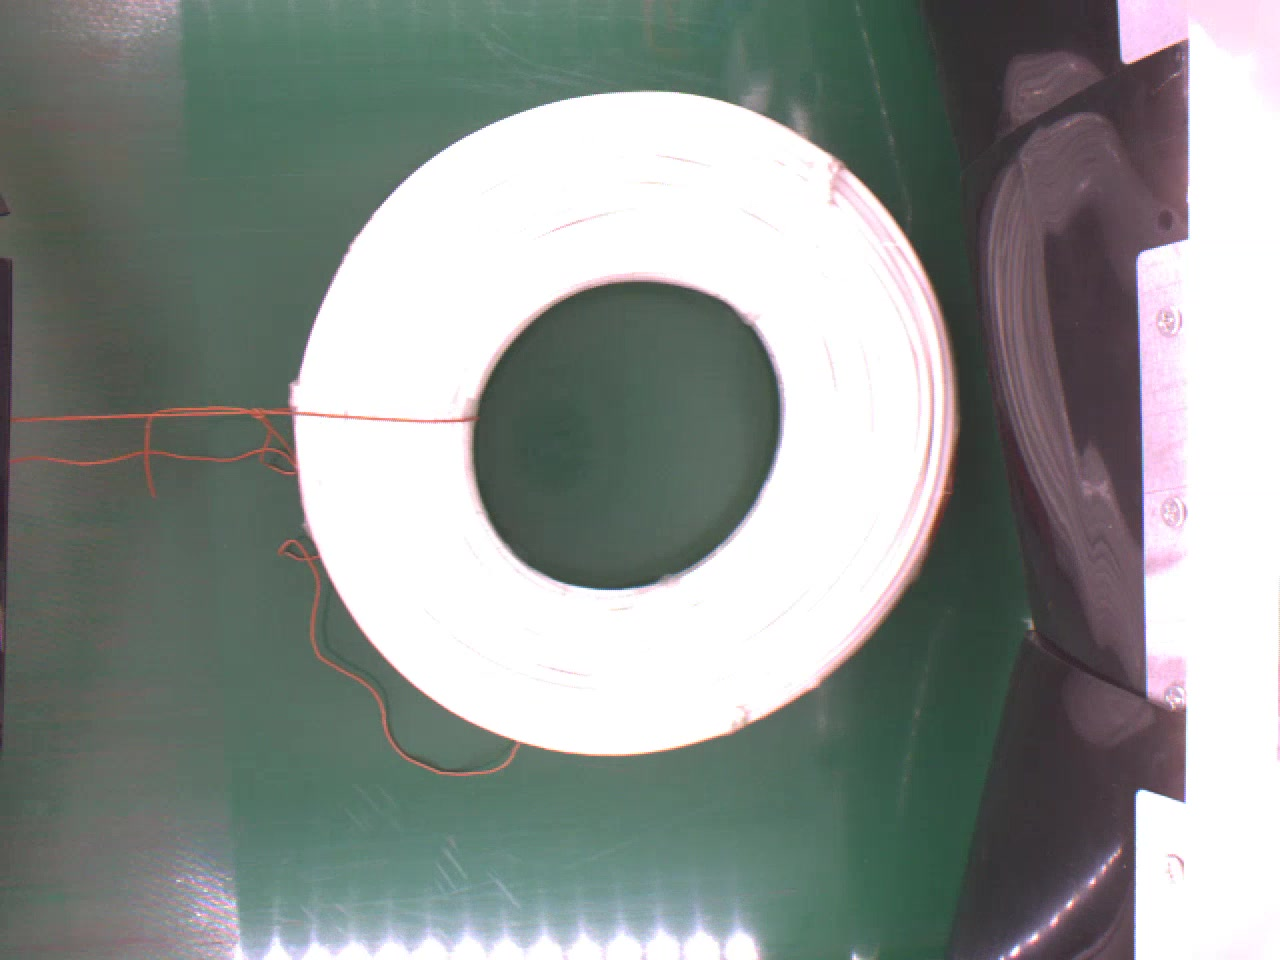white: (280, 87, 962, 751)
